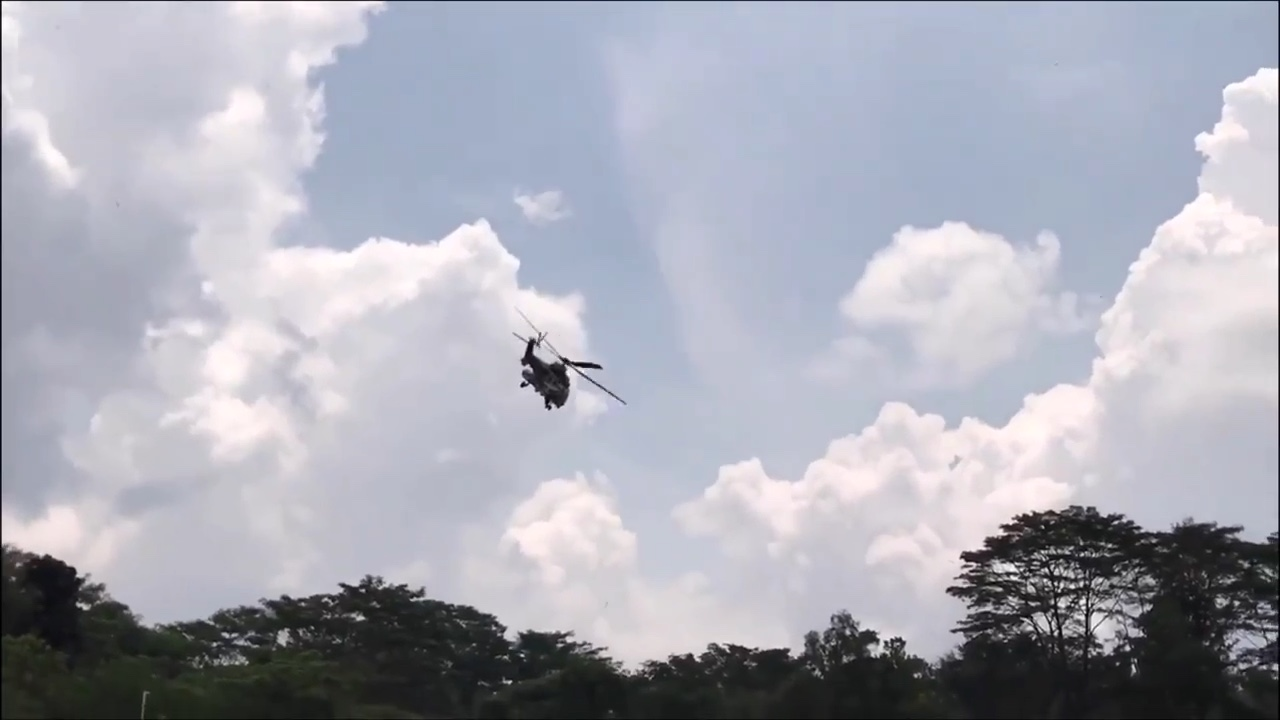cougar: (506, 303, 628, 414)
